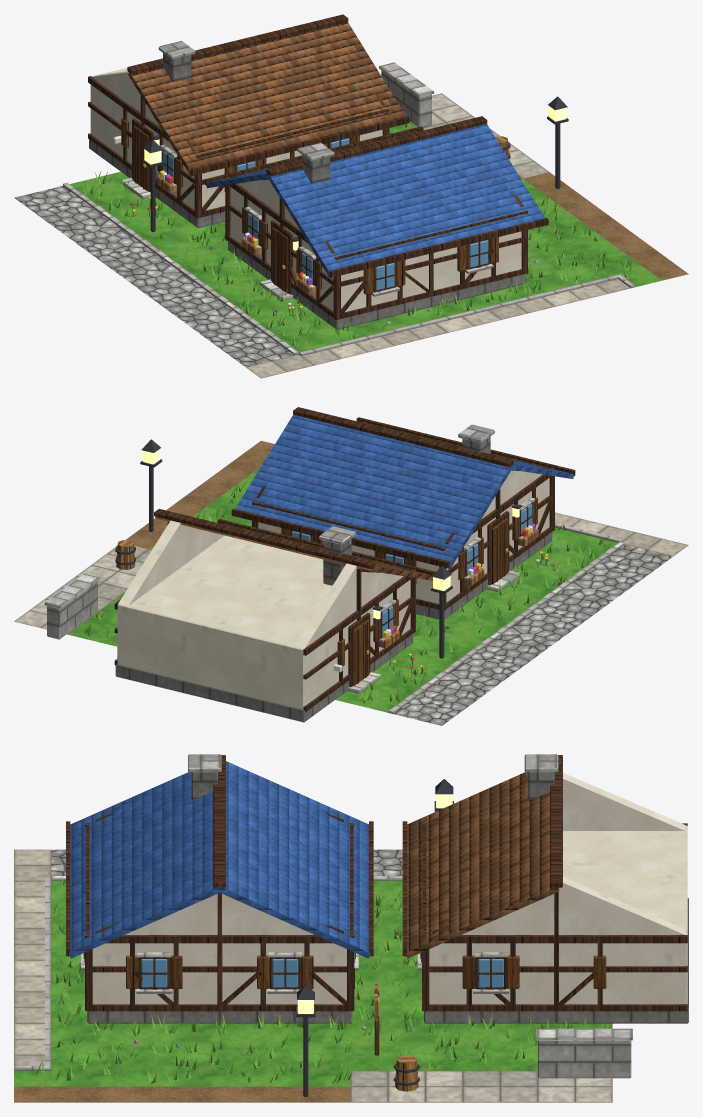
Rendered from chunk_6_10.glb.
3 views of the same model, one above another, from view 1: azimuth 30°, elevation 25°; view 2: azimuth 150°, elevation 25°; view 3: azimuth 270°, elevation 25° (orthographic). The views are drawn at different scales.
Visible parts, largest first — view 1: chunk_6_10; view 2: chunk_6_10; view 3: chunk_6_10.
Part boxes in pixels (x1,y1,x2,y2): chunk_6_10: [14, 14, 688, 378]; chunk_6_10: [14, 407, 688, 725]; chunk_6_10: [14, 754, 688, 1102].
Size of the model in its own units: 16 by 4.99 by 18.04.
Materials: 26 (17 with a texture image).
